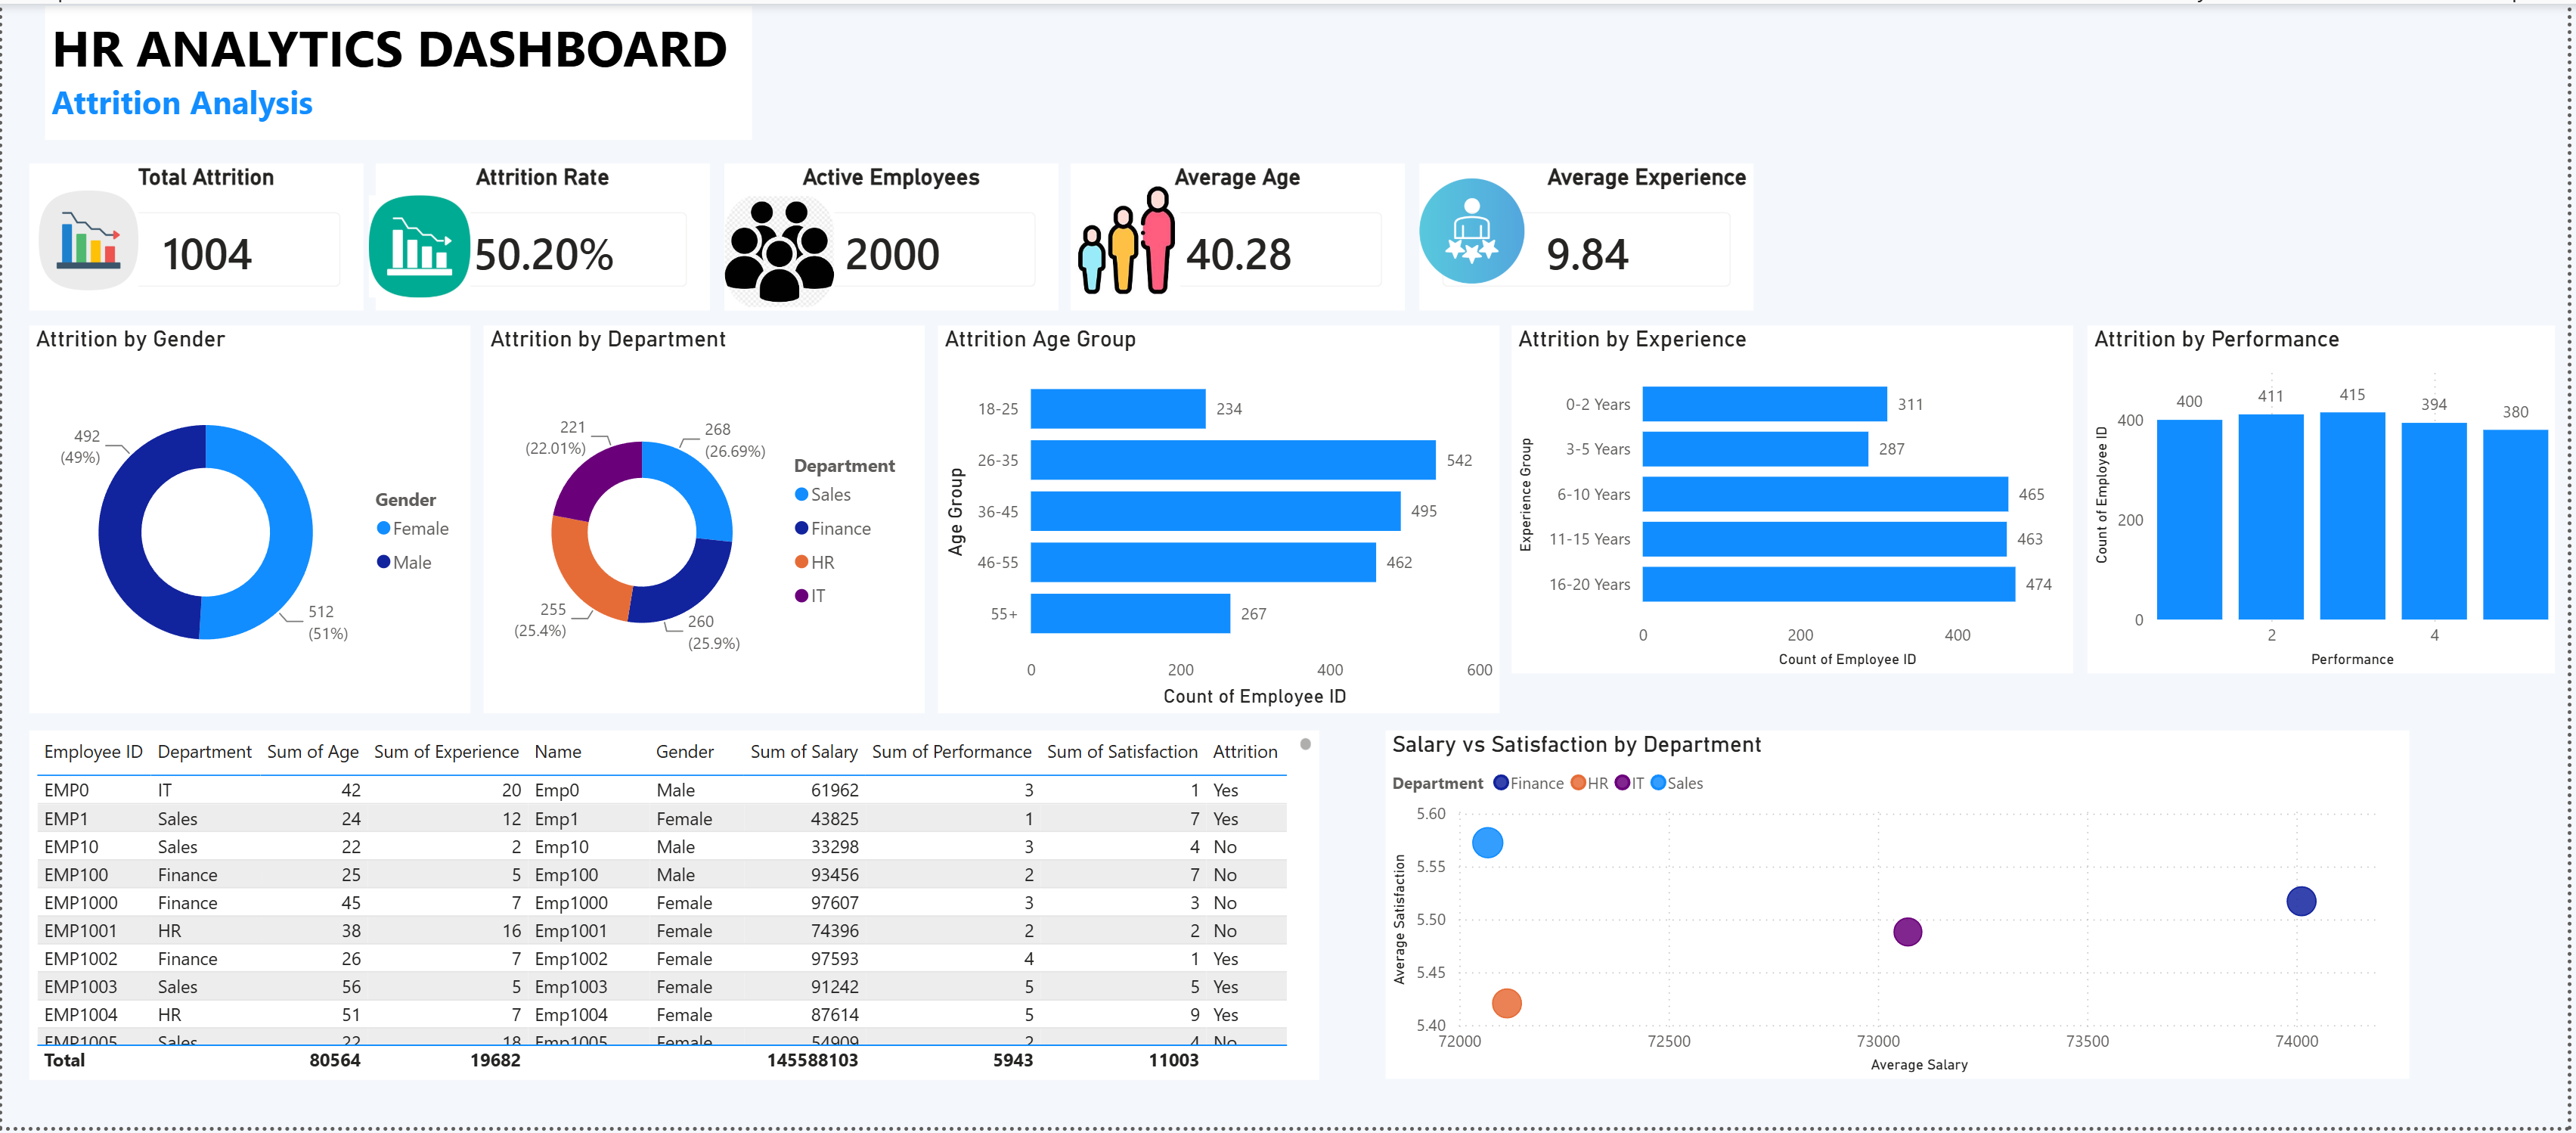

What the dashboard file says about the page in this screenshot:
{"tool":"powerbi","page":{"name":"Attrition","canvas":[1920,840],"ordinal":1},"visuals":[{"type":"cardVisual","title":"Attrition Rate","fields":{"Data":["Sheet (3).Attrition Rate"]},"box":[280,120,250,110],"z":0},{"type":"cardVisual","title":"Total Attrition","fields":{"Data":["Sheet (3).Attrition Count"]},"box":[20,120,250,110],"z":1000},{"type":"cardVisual","title":"Active Employees","fields":{"Data":["CountNonNull(Sheet (3).Active Employees)"]},"box":[540,120,250,110],"z":2000},{"type":"cardVisual","title":"Average Age","fields":{"Data":["Avg(Sheet (3).Avg Age)"]},"box":[800,120,250,110],"z":3000},{"type":"cardVisual","title":"Average Experience","fields":{"Data":["Avg(Sheet (3).Avg Experience)"]},"box":[1060,120,250,110],"z":4000},{"type":"donutChart","title":"Attrition  by Department","fields":{"Y":["Sheet (3).Attrition Count"],"Category":["Sheet (3).Department"]},"box":[360,240,330,290],"z":5000},{"type":"donutChart","title":"Attrition by Gender","fields":{"Category":["Sheet (3).Gender"],"Y":["Sheet (3).Attrition Count"]},"box":[20,240,330,290],"z":6000},{"type":"clusteredBarChart","title":"Attrition Age Group","fields":{"Category":["Sheet (3).Age Group"],"Y":["CountNonNull(Sheet (3).Employee ID)"]},"box":[700,240,420,290],"z":7000},{"type":"clusteredColumnChart","title":"Attrition by Performance","fields":{"Category":["Sheet (3).Performance"],"Y":["CountNonNull(Sheet (3).Employee ID)"]},"box":[1560,240,350,260],"z":8000},{"type":"scatterChart","title":" Salary vs  Satisfaction by Department ","fields":{"X":["Avg(Sheet (3).Salary)"],"Y":["Avg(Sheet (3).Satisfaction)"],"Series":["Sheet (3).Department"],"Size":["CountNonNull(Sheet (3).Employee ID)"]},"box":[1034.9,544,766.2,260.5],"z":9000},{"type":"tableEx","fields":{"Values":["Sheet (3).Employee ID","Sheet (3).Department","Sum(Sheet (3).Age)","Sum(Sheet (3).Experience)","Sheet (3).Name","Sheet (3).Gender","Sum(Sheet (3).Salary)","Sum(Sheet (3).Performance)","Sum(Sheet (3).Satisfaction)","Sheet (3).Attrition"]},"box":[20.1,544,964.7,260.8],"z":10000},{"type":"clusteredBarChart","title":"Attrition by Experience","fields":{"Category":["Sheet (3).Experience Group"],"Y":["Count(Sheet (3).Employee ID)"]},"box":[1130,240,420,260],"z":11000},{"type":"image","box":[19.2,139.8,91.9,74.7],"z":12000},{"type":"image","box":[1061,122,78.5,97.7],"z":13000},{"type":"image","box":[800.6,134.1,80.4,84.3],"z":14000},{"type":"image","box":[540.1,141.7,82.4,88.1],"z":15000},{"type":"image","box":[273.9,120.7,76,120.7],"z":16000},{"type":"textbox","box":[32,1,529,100],"z":16001}]}

Visuals, with their boxes in screenshot pixels (x1, y1, x2, y2), scaled from the page's 1920x840 canvas onto the 2576x1133 screenshot:
"Attrition Rate" cardVisual: 376 162 711 310
"Total Attrition" cardVisual: 26 162 362 310
"Active Employees" cardVisual: 724 162 1060 310
"Average Age" cardVisual: 1074 162 1409 310
"Average Experience" cardVisual: 1422 162 1758 310
"Attrition  by Department" donutChart: 483 324 925 715
"Attrition by Gender" donutChart: 26 324 470 715
"Attrition Age Group" clusteredBarChart: 939 324 1502 715
"Attrition by Performance" clusteredColumnChart: 2093 324 2562 675
" Salary vs  Satisfaction by Department " scatterChart: 1388 734 2416 1085
tableEx - Sheet (3).Employee ID x Sheet (3).Department: 27 734 1322 1085
"Attrition by Experience" clusteredBarChart: 1516 324 2079 675
image: 26 188 149 290
image: 1424 165 1529 296
image: 1074 181 1182 294
image: 724 191 835 310
image: 367 163 470 325
textbox: 43 2 752 136
